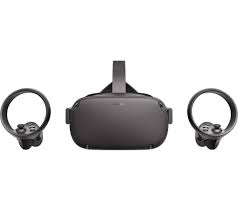oculus: (65, 91, 178, 154)
